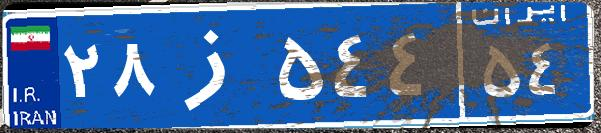2: (57, 26, 110, 107)
4: (385, 28, 445, 110), (330, 28, 385, 110), (525, 38, 570, 115)
5: (273, 28, 330, 110), (475, 38, 525, 113)
8: (110, 28, 158, 105)
ز: (158, 15, 273, 115)
